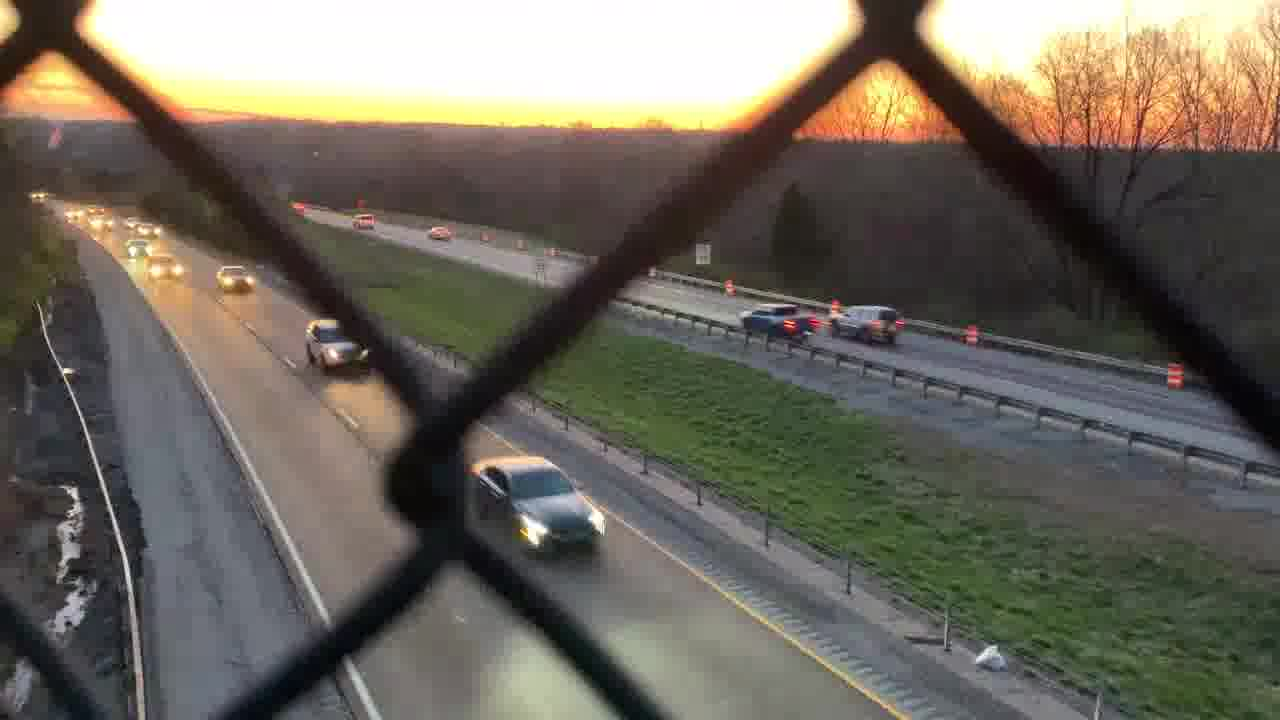largeCar: (299, 315, 373, 369), (828, 303, 905, 344)
lightTruck: (738, 301, 815, 341)
smallCar: (467, 454, 618, 556)
